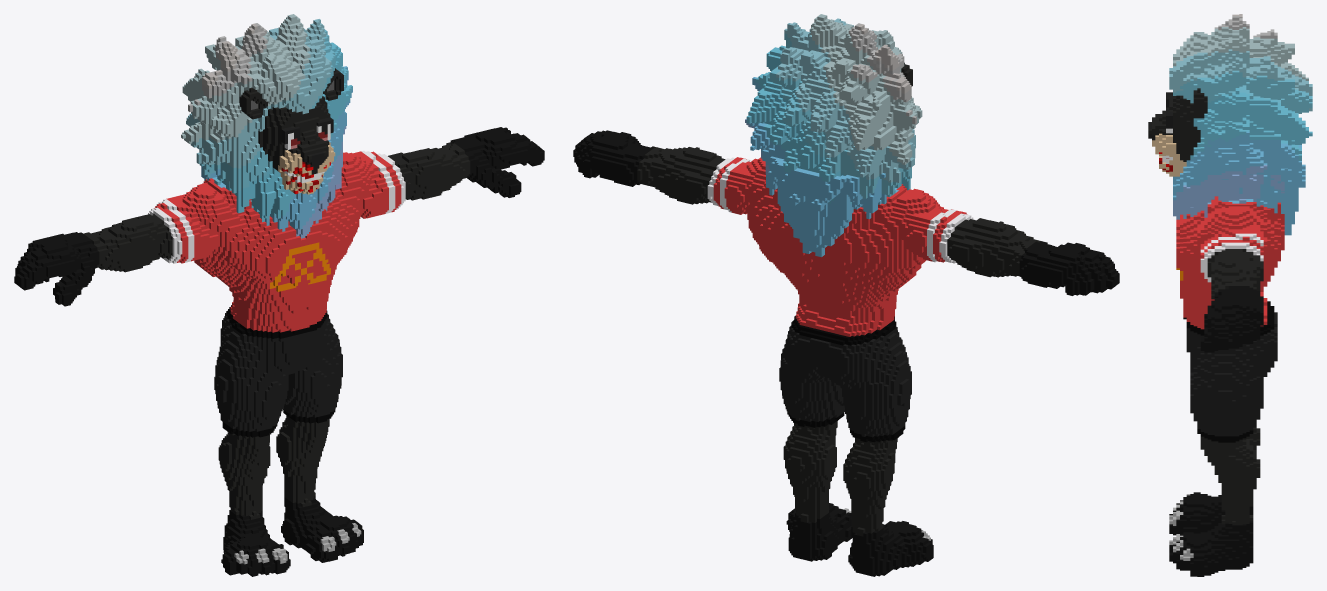
File: 465-iAW6HjQm.glb
The picture shows the model from 3 angles, left to right: view 1: azimuth 30°, elevation 25°; view 2: azimuth 150°, elevation 25°; view 3: azimuth 270°, elevation 25°; orthographic projection. The views are drawn at different scales.
Visible parts, largest first — view 1: blood; view 2: blood; view 3: blood.
Part boxes in pixels (<box>): blood: <box>14,14,544,576</box>; blood: <box>573,14,1119,576</box>; blood: <box>1148,14,1312,576</box>.
Size of the model in its own units: 17.2 by 16.5 by 4.7.
5 materials, 5 textured.
